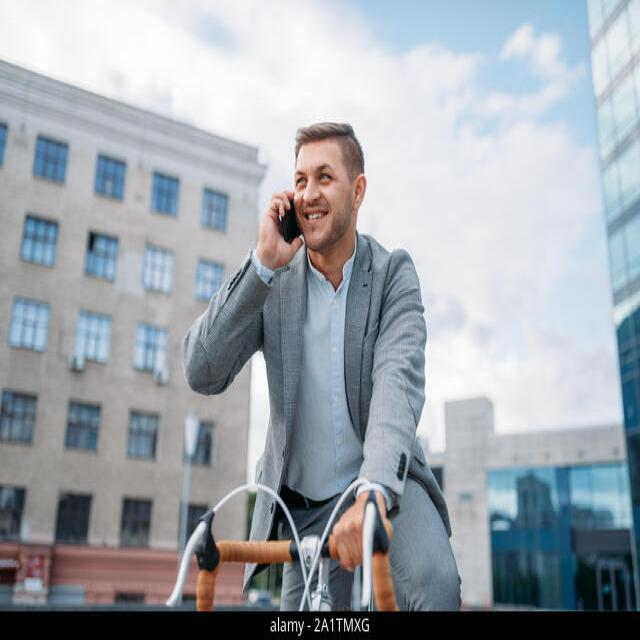Not Wearing Helmet: (221, 104, 450, 462)
Usage Of Phone While Riding: (248, 147, 378, 265)
